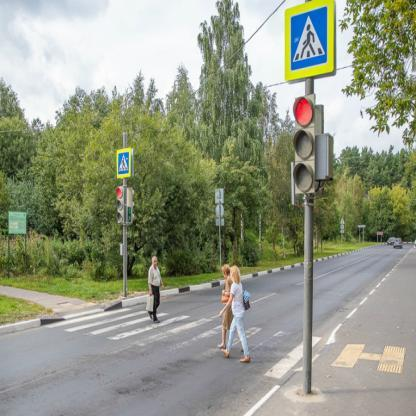road_sign: (285, 0, 334, 80), (116, 148, 131, 178)
traffic light: (293, 94, 315, 194), (116, 186, 126, 223)
